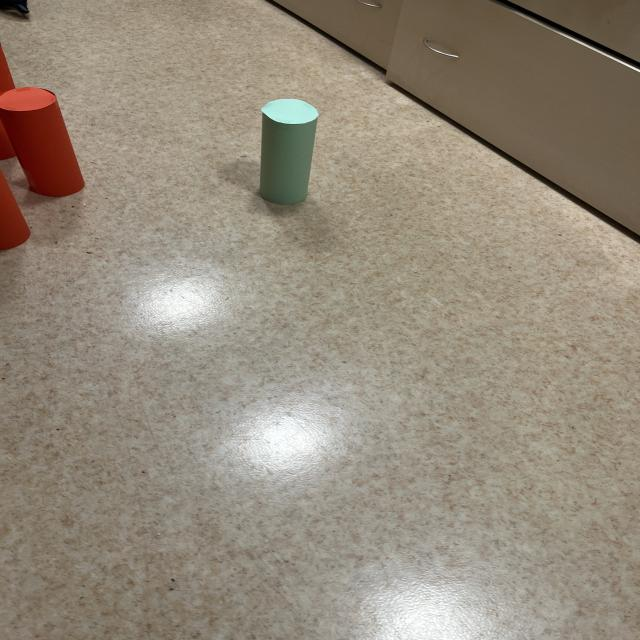meta: (259, 99, 318, 205)
